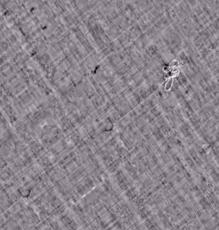snag: (156, 57, 191, 95)
